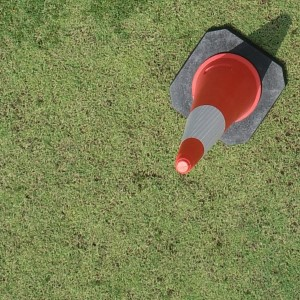traffic cone: (169, 29, 285, 173)
